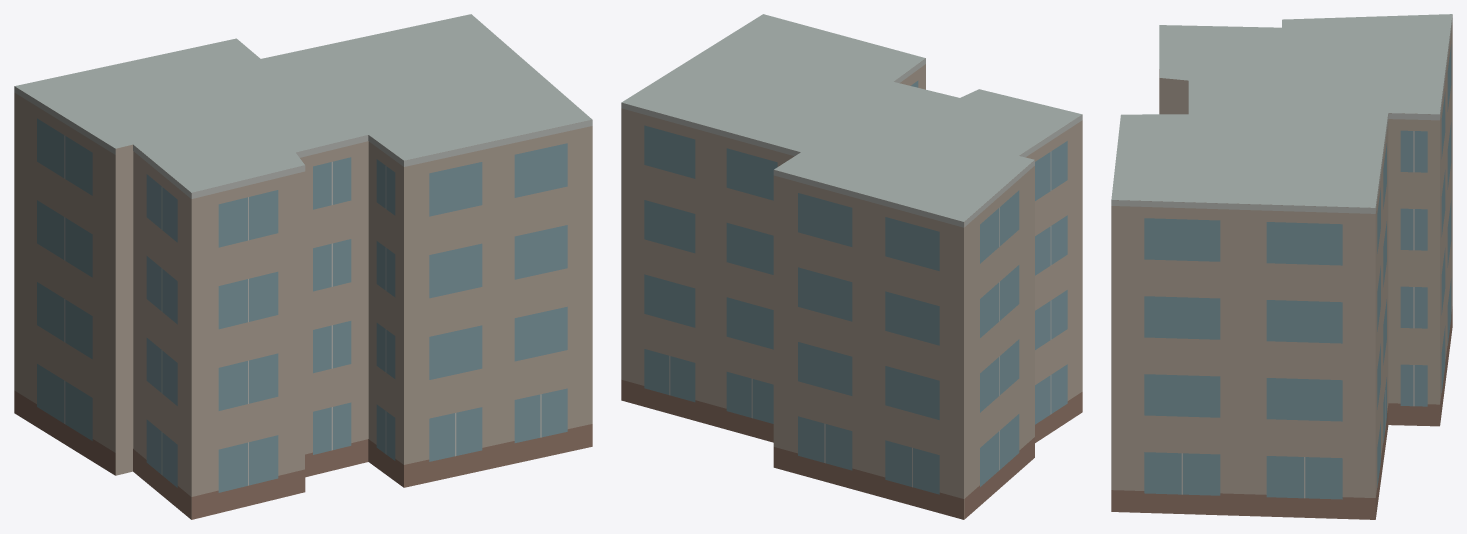
The model's file is survey-upis-32819414.glb.
3 renders of one model, left to right at view 1: azimuth 30°, elevation 25°; view 2: azimuth 150°, elevation 25°; view 3: azimuth 270°, elevation 25°, orthographic. The views are drawn at different scales.
Visible parts, largest first — view 1: survey-upis-32819414.tmp; view 2: survey-upis-32819414.tmp; view 3: survey-upis-32819414.tmp.
Boxes of the visible parts, left/top/right/bottom form: survey-upis-32819414.tmp: left=14, top=14, right=592, bottom=519; survey-upis-32819414.tmp: left=621, top=14, right=1082, bottom=519; survey-upis-32819414.tmp: left=1111, top=14, right=1452, bottom=519.
Size of the model in its own units: 16.88 by 12.65 by 12.55.
